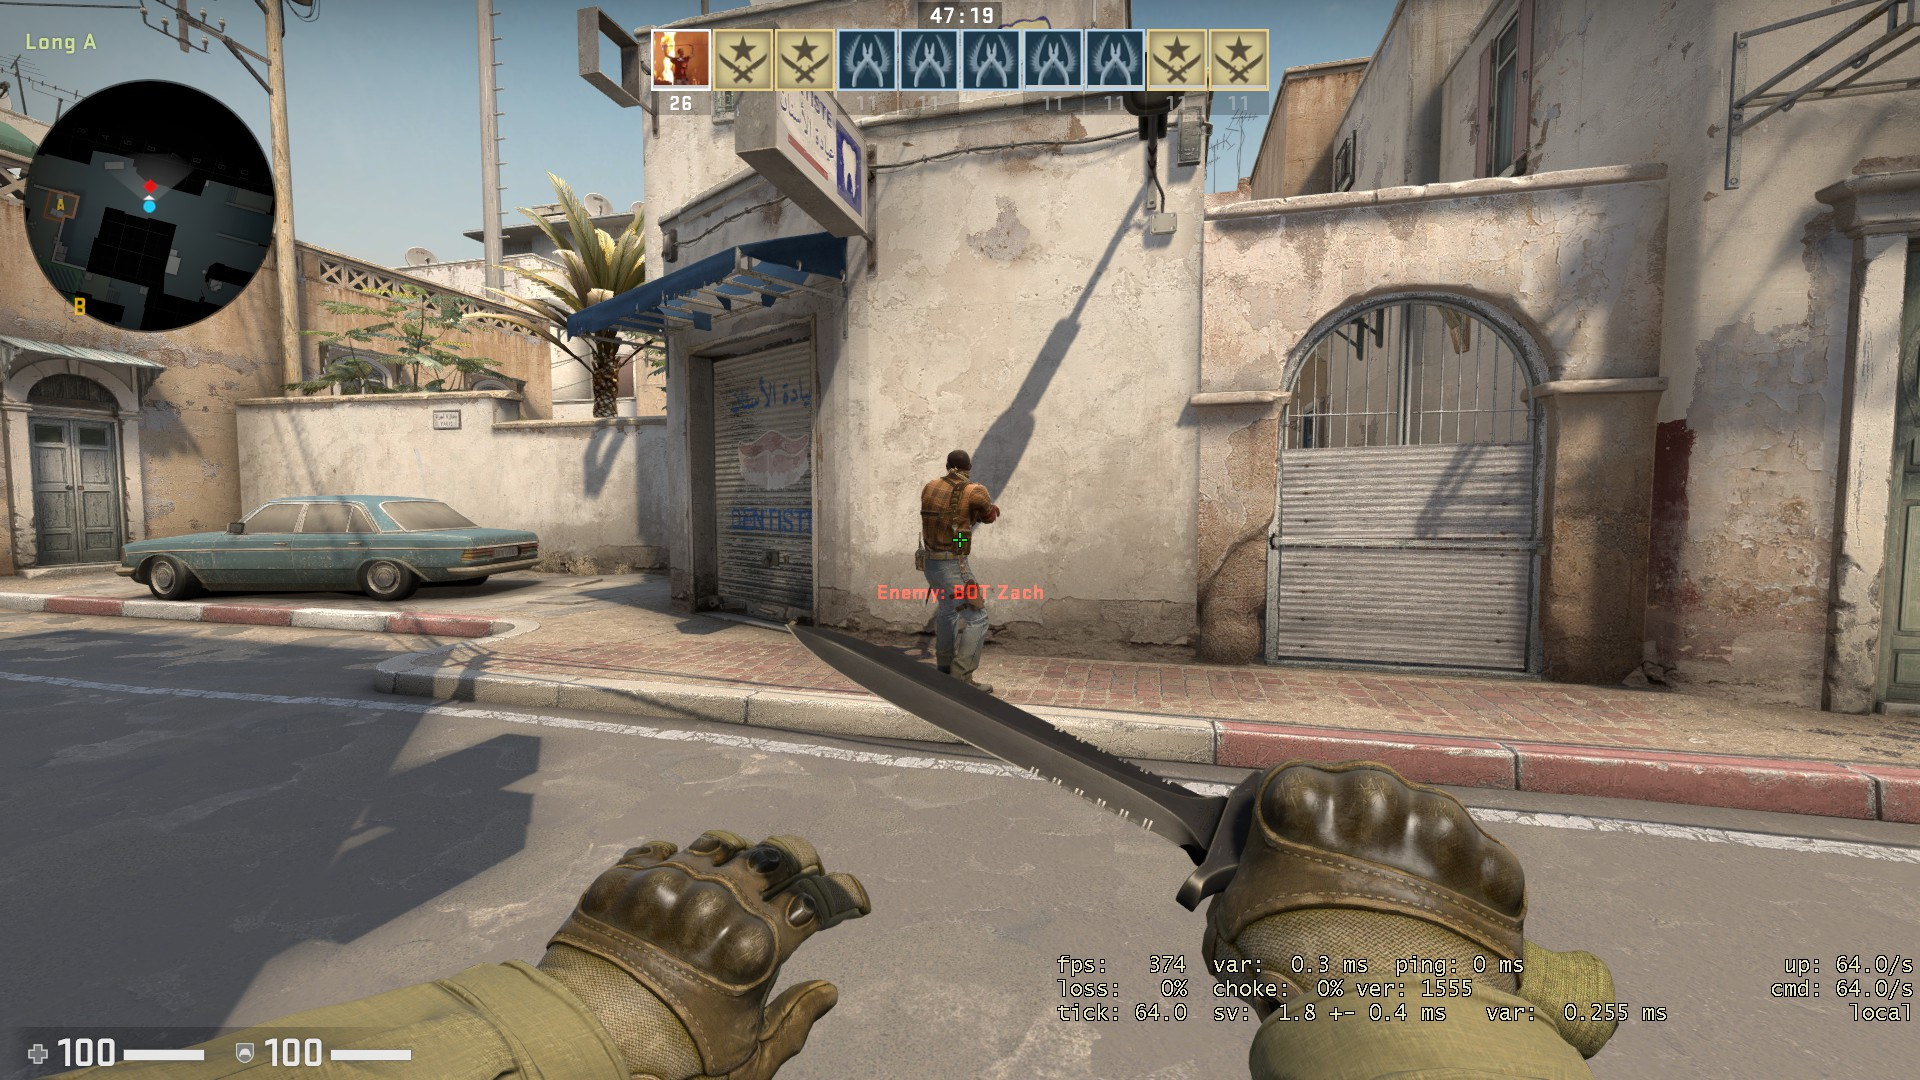player: (912, 443, 1004, 696)
